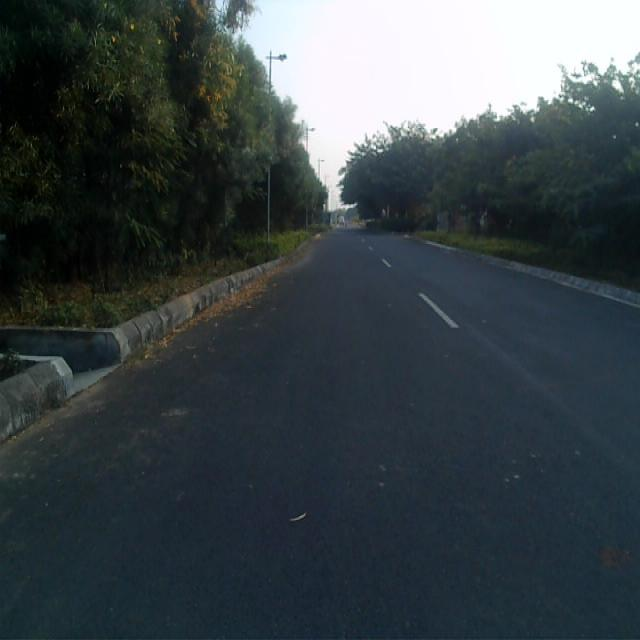lane: (0, 231, 640, 640)
